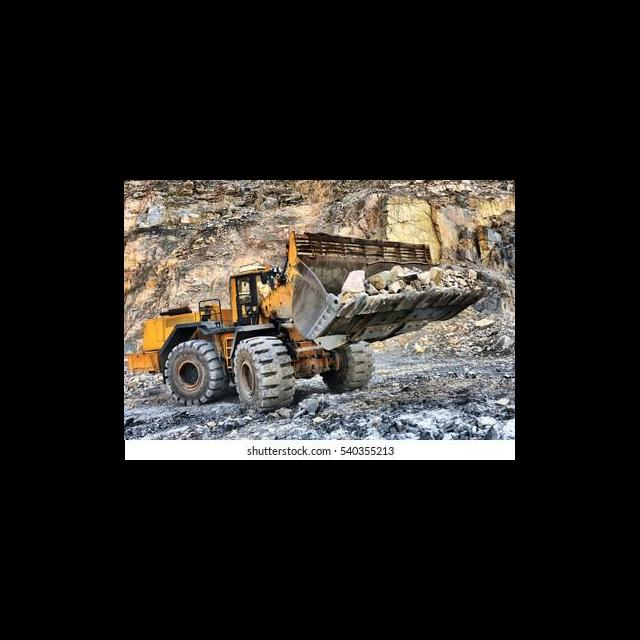wheel loader: (126, 225, 497, 415)
